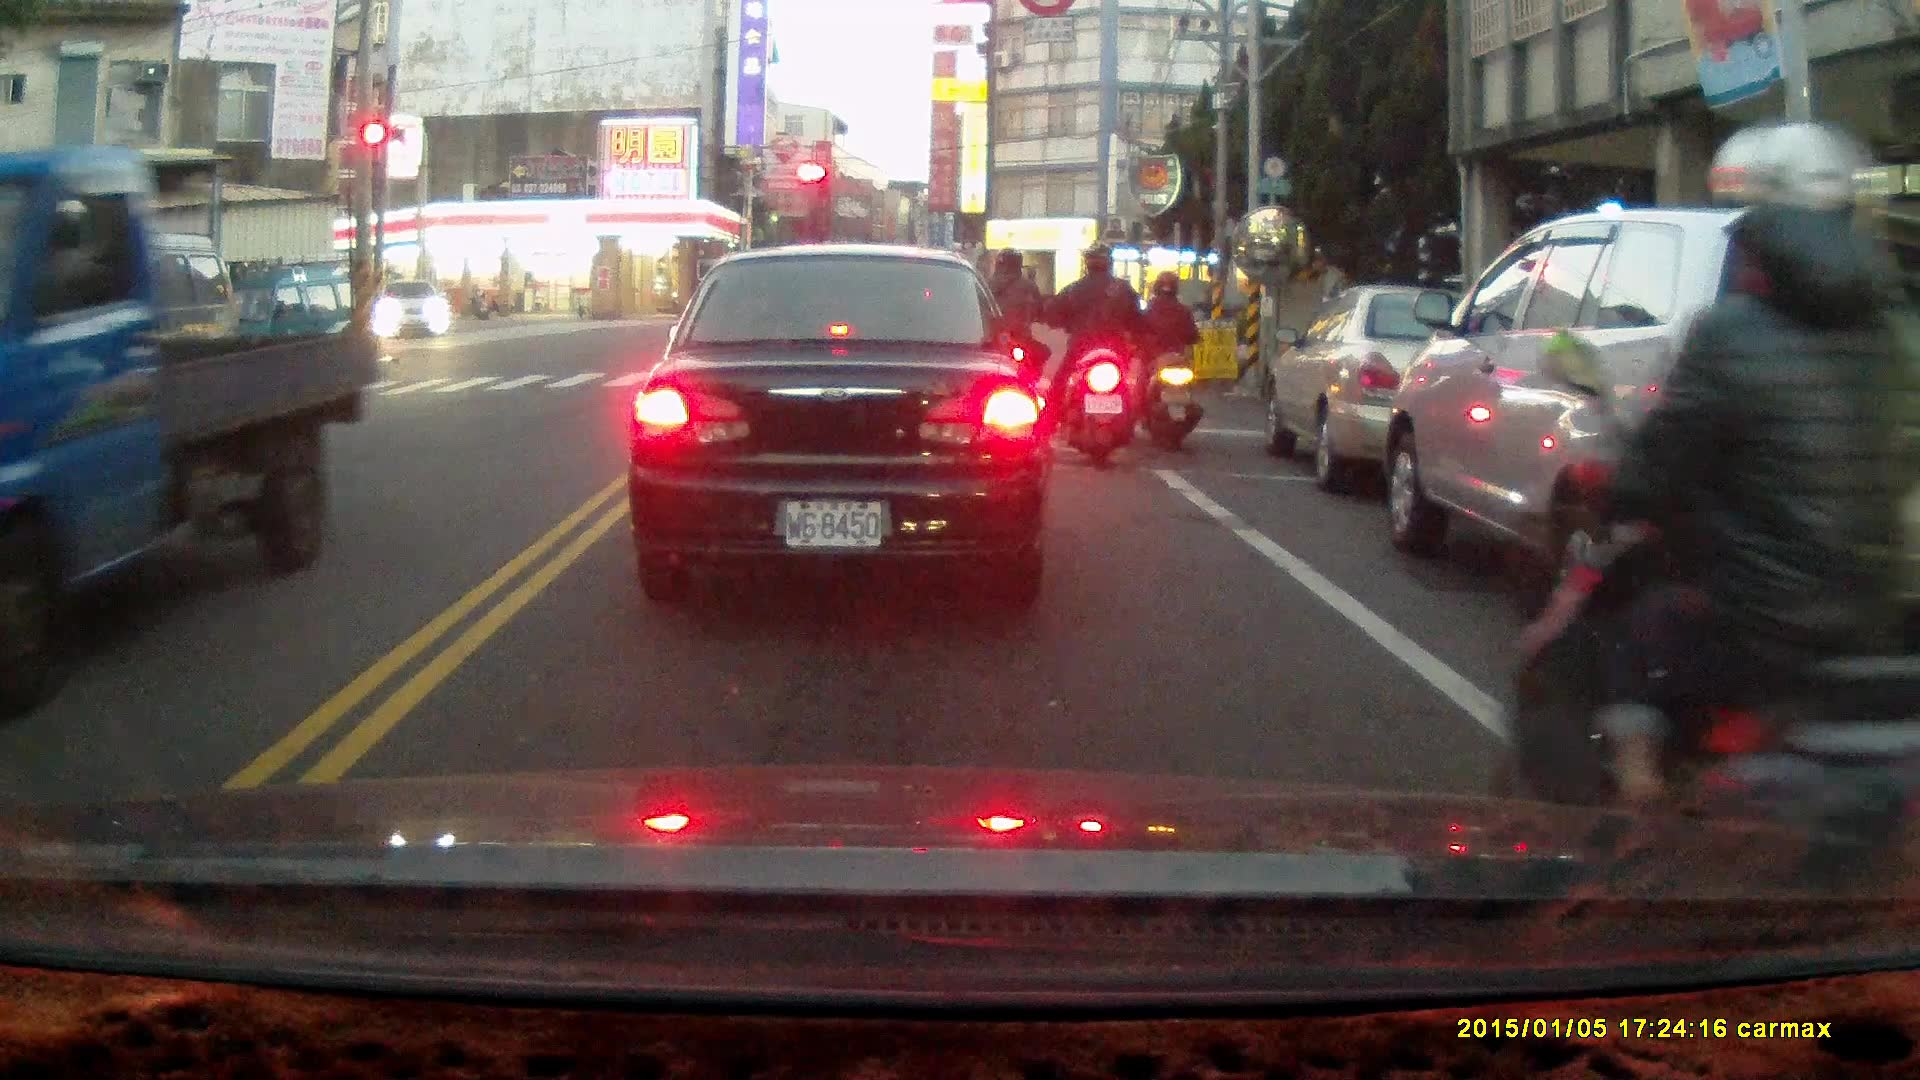rider: (1507, 118, 1920, 983), (1037, 243, 1145, 468), (964, 253, 1048, 433), (1132, 272, 1202, 451)
vehicle: (1379, 200, 1920, 681), (1, 164, 369, 689), (633, 248, 1043, 601), (1259, 287, 1574, 493), (200, 264, 387, 395), (372, 277, 451, 343)
